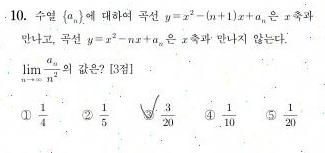choice: (139, 103, 155, 121)
not-choice: (202, 108, 216, 122), (80, 108, 94, 121), (18, 109, 33, 121), (264, 108, 277, 121)
